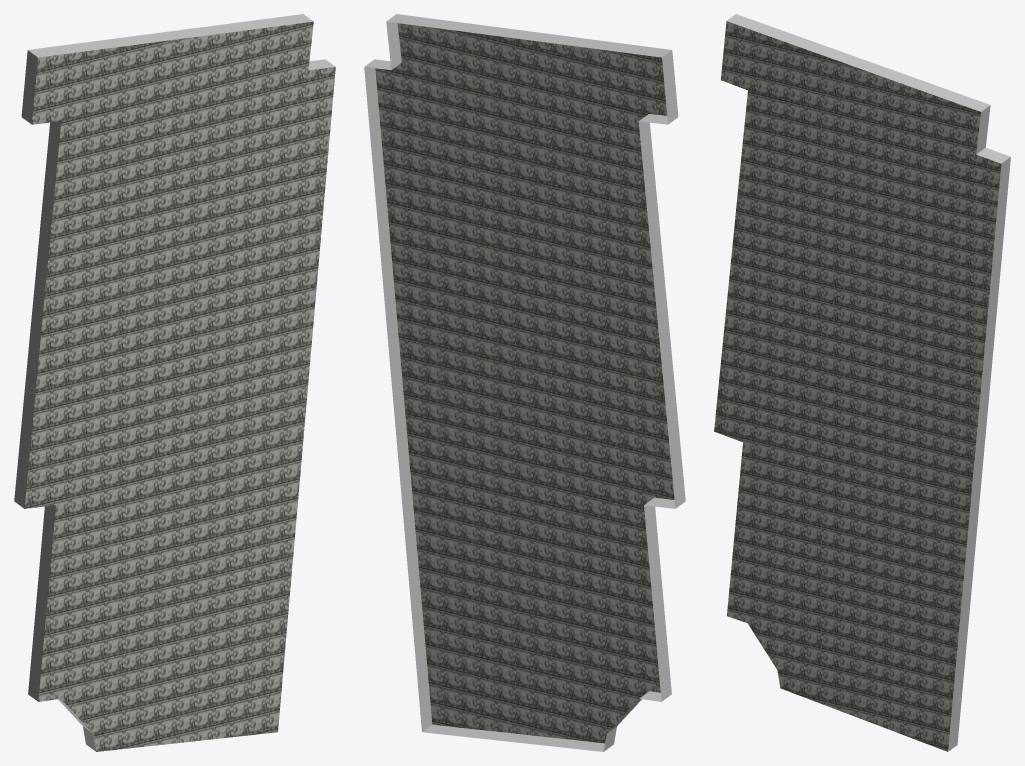
File: geospecific_298.obj
3 views of the same model, side by side, from view 1: azimuth 30°, elevation 25°; view 2: azimuth 150°, elevation 25°; view 3: azimuth 330°, elevation 25° (orthographic). The views are drawn at different scales.
Parts seen in each view (by area): view 1: Building; view 2: Building; view 3: Building.
Part boxes in pixels (x1,y1,x2,y2): Building: (14, 14, 335, 751); Building: (364, 14, 685, 751); Building: (714, 14, 1010, 751).
Size of the model in its own units: 51.95 by 117 by 3.
